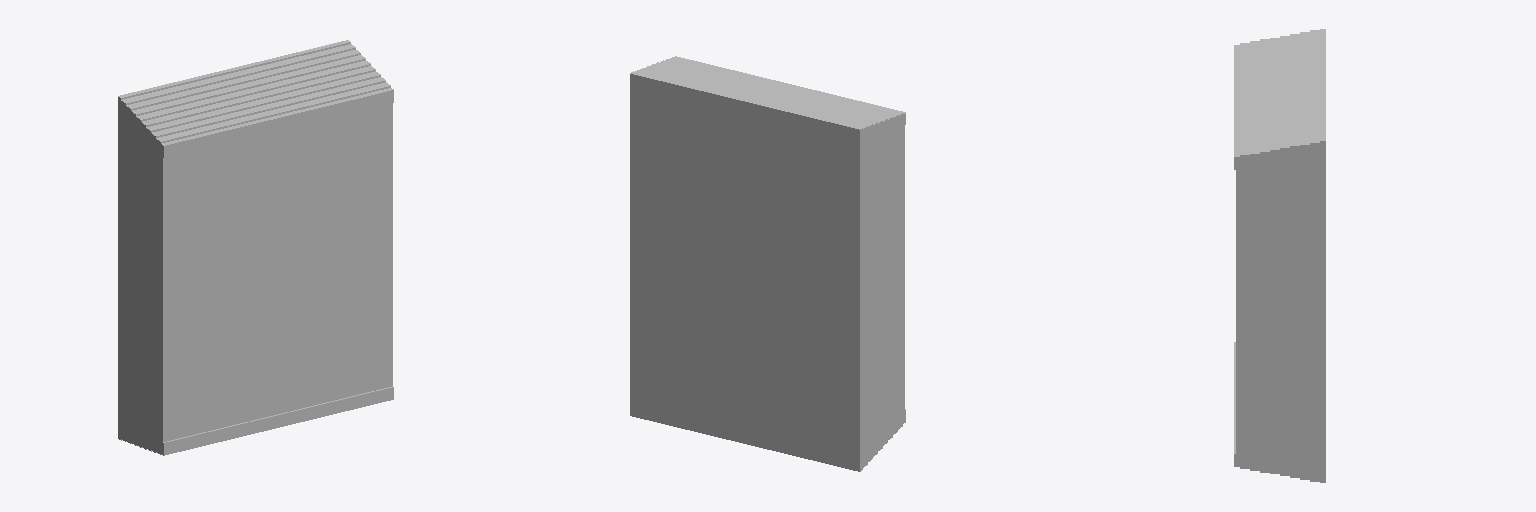
The model's file is Space ship-17.obj.
3 renders of one model, left to right at view 1: azimuth 30°, elevation 25°; view 2: azimuth 150°, elevation 25°; view 3: azimuth 270°, elevation 25°, orthographic.
Parts seen in each view (by area): view 1: object 1; view 2: object 1; view 3: object 1.
Boxes of the visible parts, box(x1,y1,x2,y2) form: object 1: box(118, 40, 393, 455); object 1: box(630, 56, 905, 471); object 1: box(1234, 29, 1325, 482).
Size of the model in its own units: 13.3 by 18.9 by 4.6.